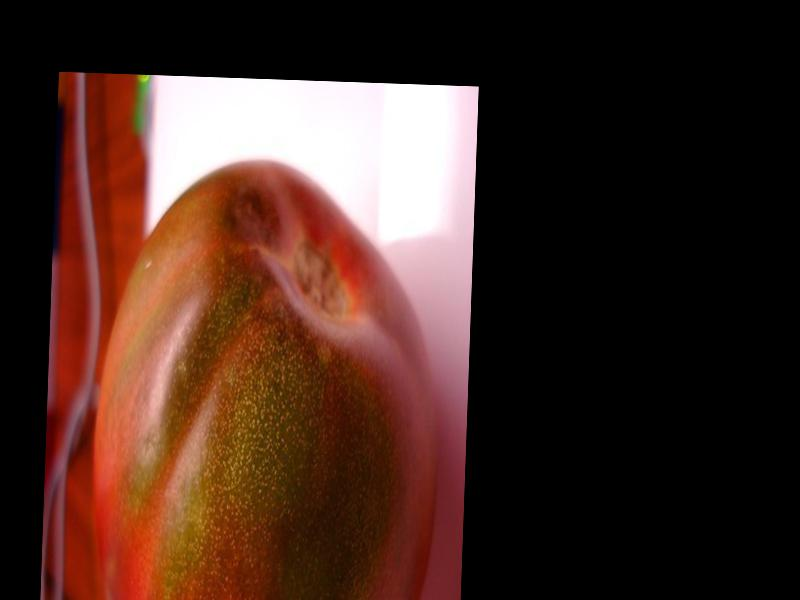Tomato: (86, 156, 446, 600)
